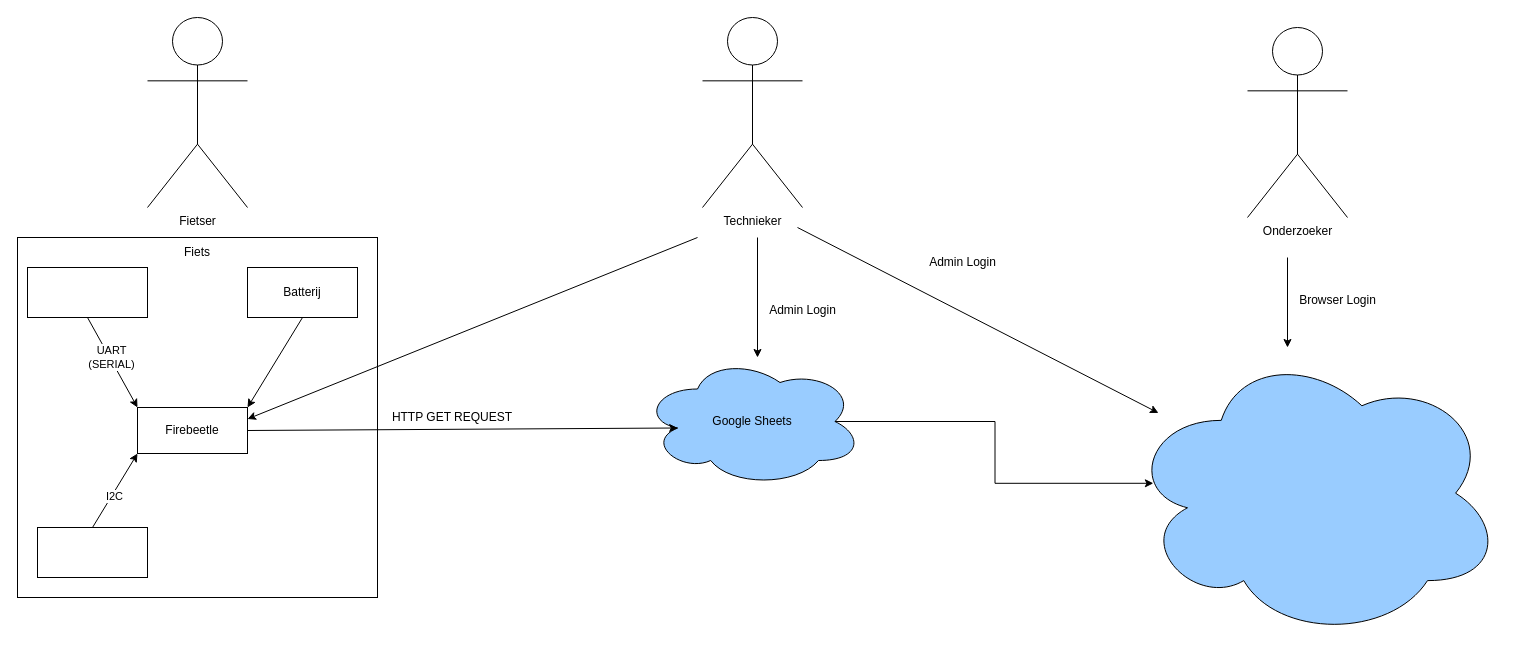
Some shapes in this 1520 by 657 pixel diagram are drawn without their labels. The centre of each missing label's shape, as x and y in pixels:
"Accelerometer" goes at (92,552).
"GPS Sensor" goes at (87,292).
"Grafana Dashboard" goes at (1314,492).
